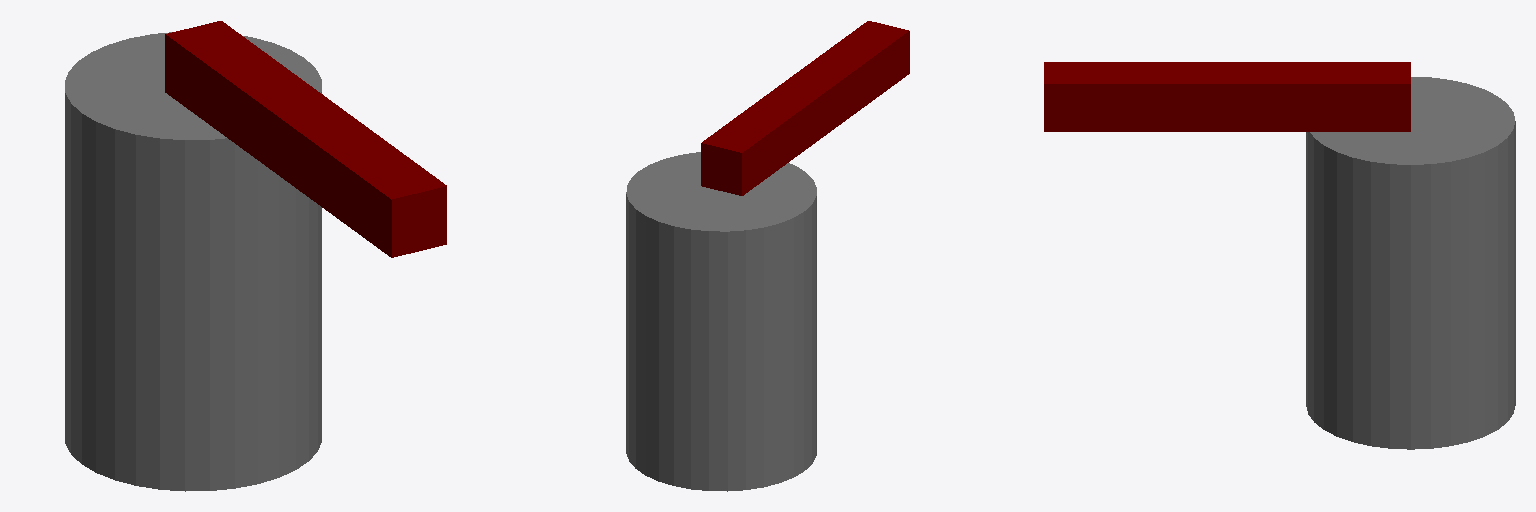
URDF robot description (robot0):
<?xml version="1.0"?>
<robot name="robot0">

    <link name="world" />

    <joint name="joint_0" type="fixed">
        <parent link="world"/>
        <child link="link_0"/>
    </joint>
    
    <link name="link_0">
        <visual>
            <geometry>
                <cylinder length="0.6" radius="0.2"/>
            </geometry>
            <material name="gray">
                <color rgba="0.5 0.5 0.5 1"/>
            </material>
        </visual>
    </link>

    <joint name="joint_1" type="revolute">
        <origin xyz="0 0 0.35" rpy="1.57079632679 0 0"/>
        <parent link="link_0"/>
        <child link="link_1"/>
        <limit effort="30" velocity="1.0" lower="-3.1415926535897931" upper="3.1415926535897931" />
        <axis xyz="0 1 0"/>
    </joint>

    <link name="link_1">
        <visual>
            <origin xyz="0 0 0.35" rpy="0 0 0"/>
            <geometry>
                <box size="0.1 0.1 0.7" />
            </geometry>
            <material name="red">
                <color rgba="0.5 0.0 0.0 1"/>
            </material>
        </visual>
    </link>

    <joint name="end_efector_joint" type="fixed">
        <origin xyz="0 0 0.7" rpy="1.57079632679 0 0"/>
        <parent link="link_1"/>
        <child link="end_effector"/>
    </joint>

    <link name="end_effector" />
    
</robot>

--- What the picture shows (computed from the rendered views, not written in the file) ---
The picture shows the robot from 3 angles, left to right: view 1: azimuth 30°, elevation 25°; view 2: azimuth 150°, elevation 25°; view 3: azimuth 270°, elevation 25°; orthographic projection.
Robot: robot0 — 4 links, 3 joints (1 revolute, 2 fixed); root link world; default pose: all joints at 0.
Links seen in each view (by area): view 1: link_0, link_1; view 2: link_0, link_1; view 3: link_0, link_1.
Link boxes in pixels (bbox=[...]): link_0: bbox=[65, 32, 321, 491]; link_1: bbox=[165, 21, 446, 257]; link_0: bbox=[626, 152, 816, 491]; link_1: bbox=[701, 21, 909, 195]; link_0: bbox=[1306, 77, 1515, 449]; link_1: bbox=[1044, 62, 1410, 131].
Bounding box of the posed robot: 0.4 × 0.9 × 0.7 m (x, y, z).
Geometry: primitives only (box / cylinder / sphere), no mesh files.
